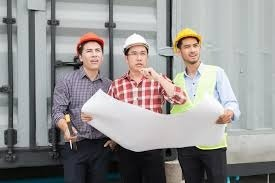helmet: (173, 27, 204, 55), (122, 32, 151, 54), (75, 31, 105, 52)
person with full safety: (169, 26, 234, 182)
person with partial safety: (108, 32, 167, 179), (55, 30, 111, 182)
safety vest: (174, 69, 227, 147)
